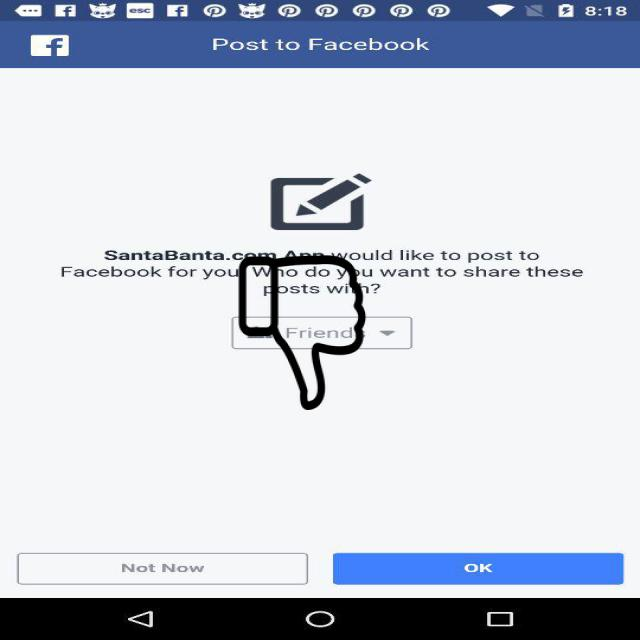obstruction: (237, 255, 367, 410)
